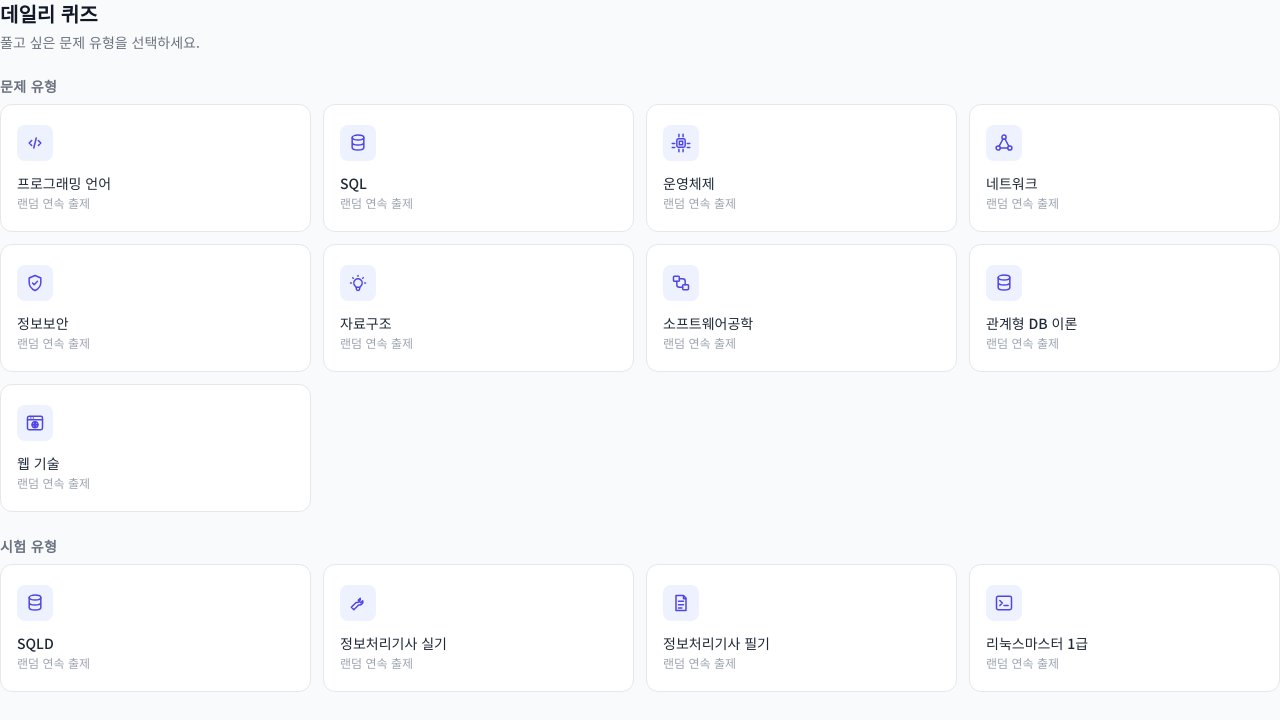
Test: QuizCategoryPage 카테고리 아이콘 › 코드 문항 카테고리를 선택하면 기존 언어 선택 모달을 유지한다
This screenshot has width=1280, height=720.
Click the button "프로그래밍 언어 랜덤 연속 출제": [35, 143] box [0, 104, 311, 232]
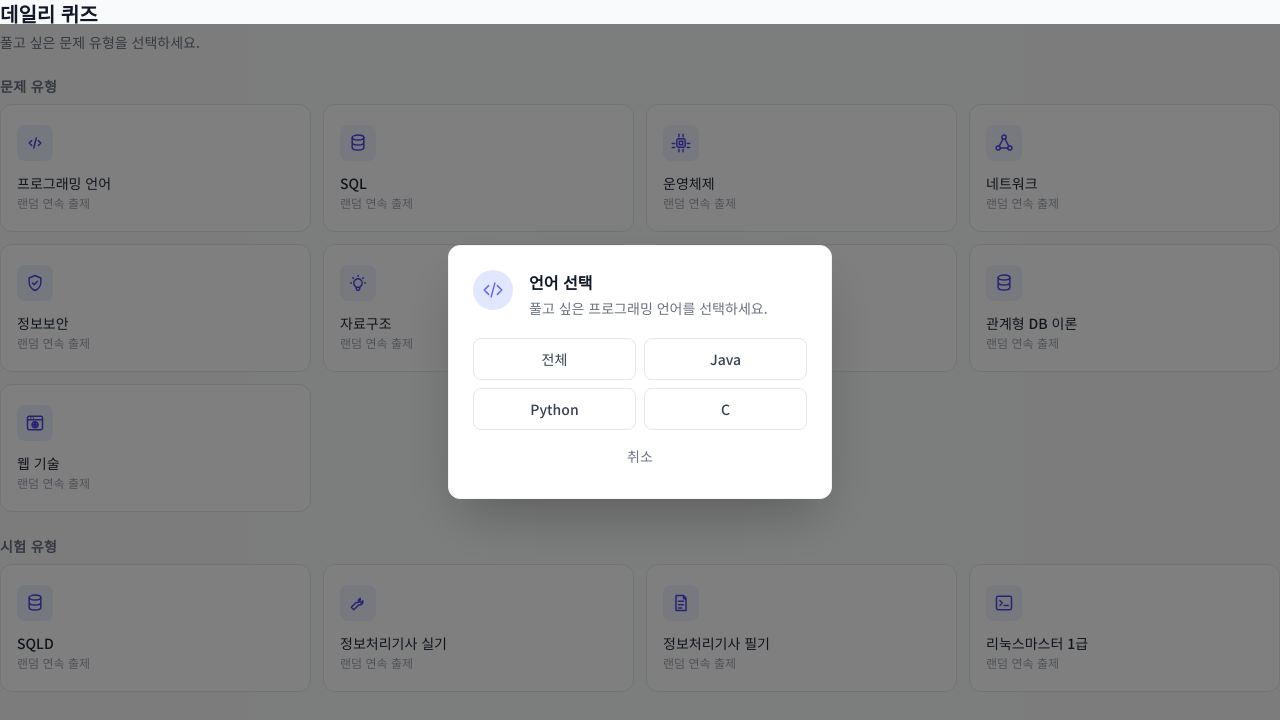
Now the heading "언어 선택" is shown, box [529, 270, 592, 294]
Now the button "Java" is shown, box [644, 338, 807, 380]
